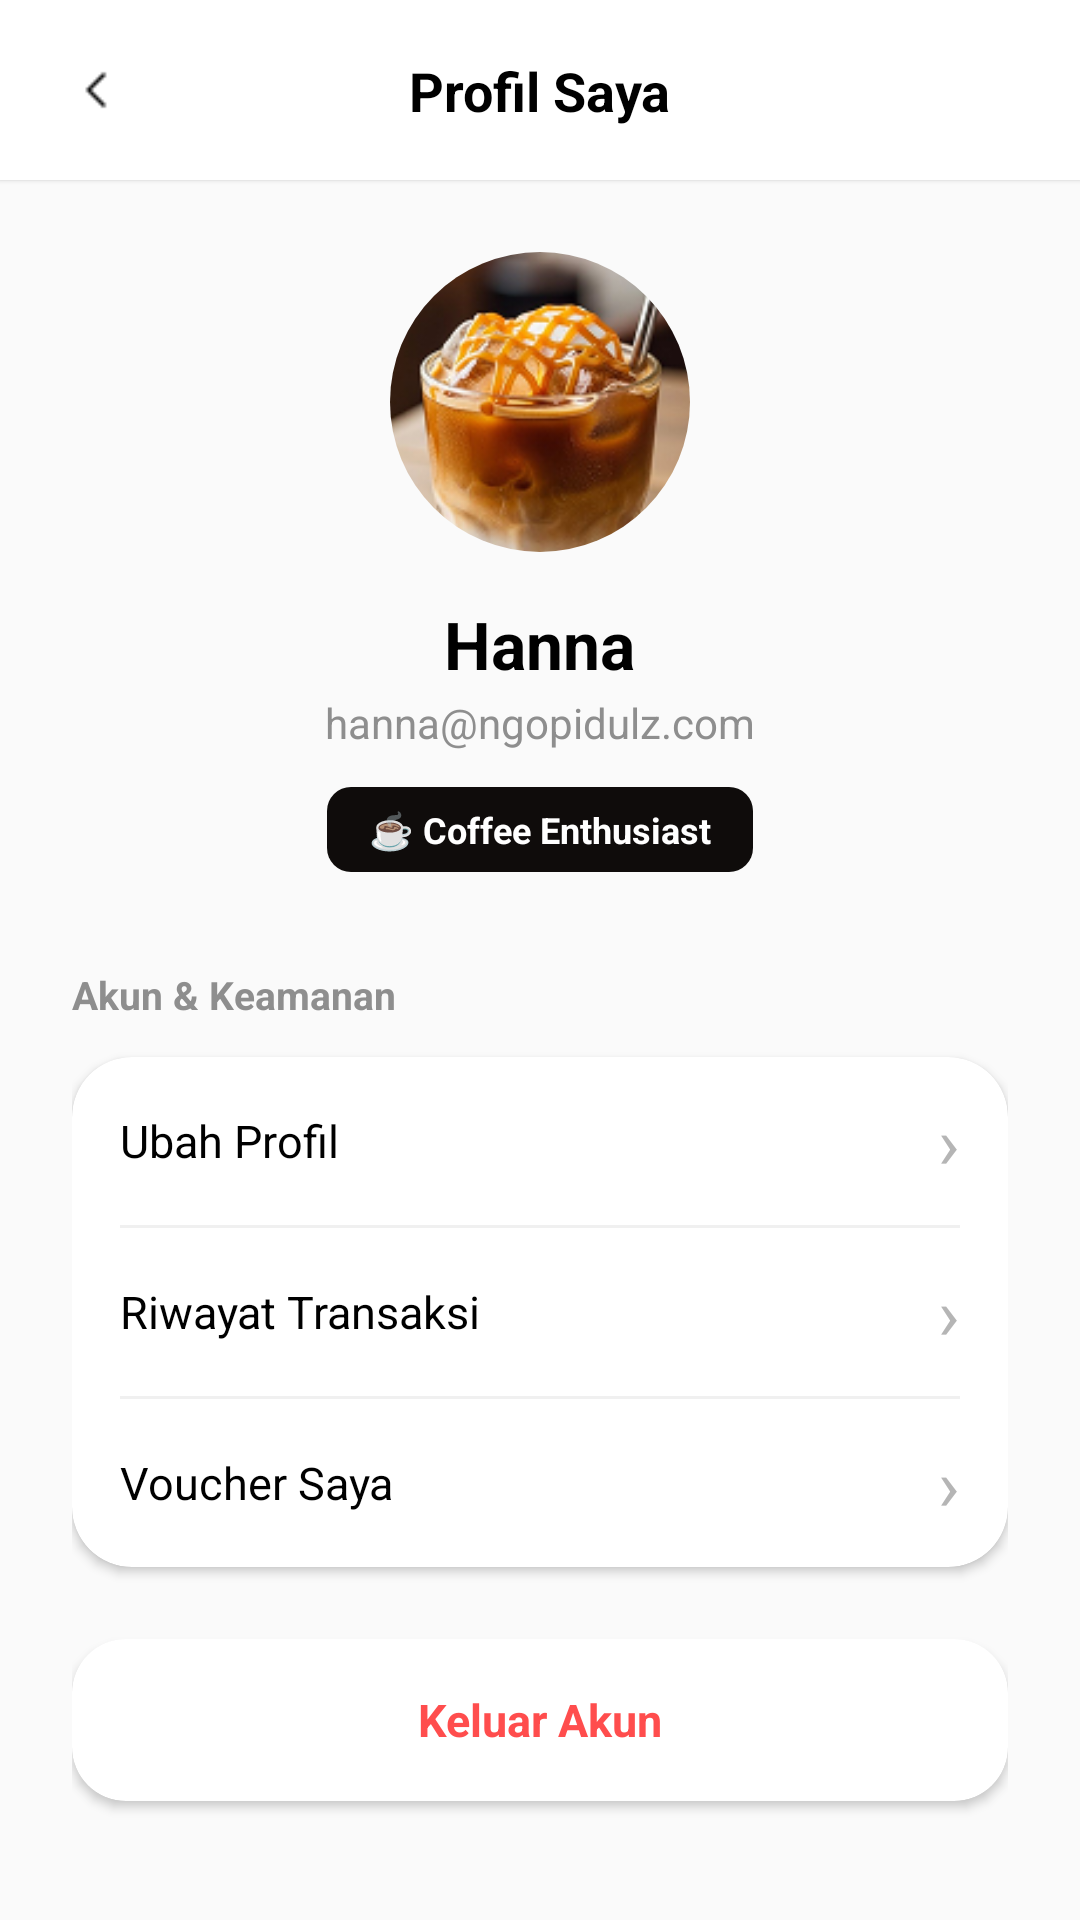

Where icons sit on this 1080px×1920px app screen, as box=[x1, y1, x2, y2]:
back: box=[85, 72, 107, 108]
macchiato: box=[390, 252, 690, 552]
